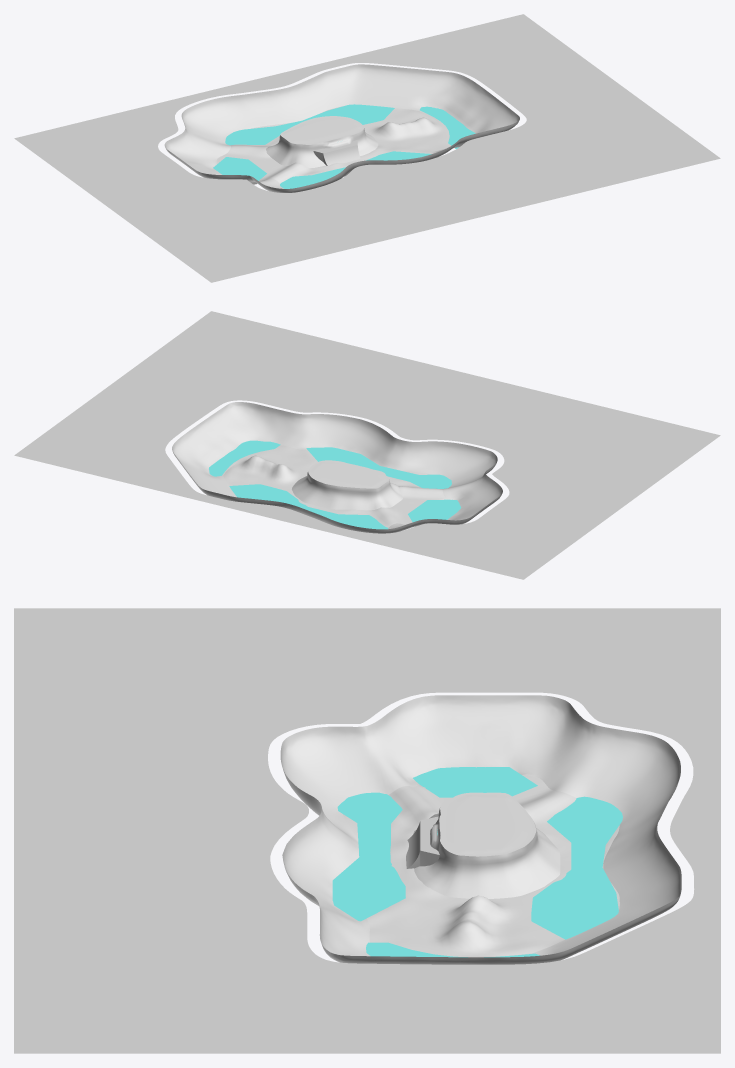
File: SkateZone.fbx
3 views of the same model, one above another, from view 1: azimuth 30°, elevation 25°; view 2: azimuth 150°, elevation 25°; view 3: azimuth 270°, elevation 25° (orthographic). The views are drawn at different scales.
Visible parts, largest first — view 1: SkateAreaMid, Plane007, Ok, DarkSec, Vert; view 2: SkateAreaMid, Plane007, Ok, DarkSec; view 3: SkateAreaMid, Plane007, Ok, DarkSec, Vert.
Boxes of the visible parts, bbox=[...] form: SkateAreaMid: bbox=[14, 14, 652, 233]; Plane007: bbox=[144, 109, 720, 282]; Ok: bbox=[164, 64, 519, 192]; DarkSec: bbox=[213, 104, 475, 188]; Vert: bbox=[313, 140, 360, 165]; SkateAreaMid: bbox=[14, 360, 652, 579]; Plane007: bbox=[144, 311, 720, 484]; Ok: bbox=[172, 402, 502, 533]; DarkSec: bbox=[209, 440, 460, 529]; SkateAreaMid: bbox=[257, 608, 720, 1053]; Plane007: bbox=[14, 608, 256, 1053]; Ok: bbox=[280, 695, 681, 964]; DarkSec: bbox=[332, 767, 622, 957]; Vert: bbox=[406, 816, 439, 868].
Size of the model in its own units: 90 by 4.01 by 60.39.
